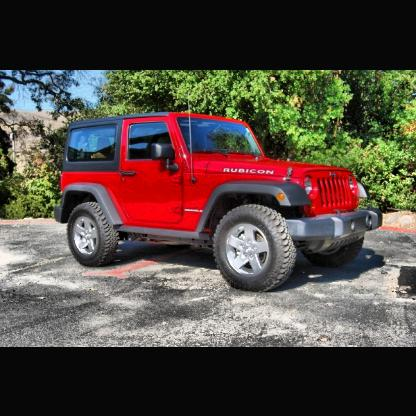Jeep Wrangler SUV 2012: (56, 113, 384, 293)
